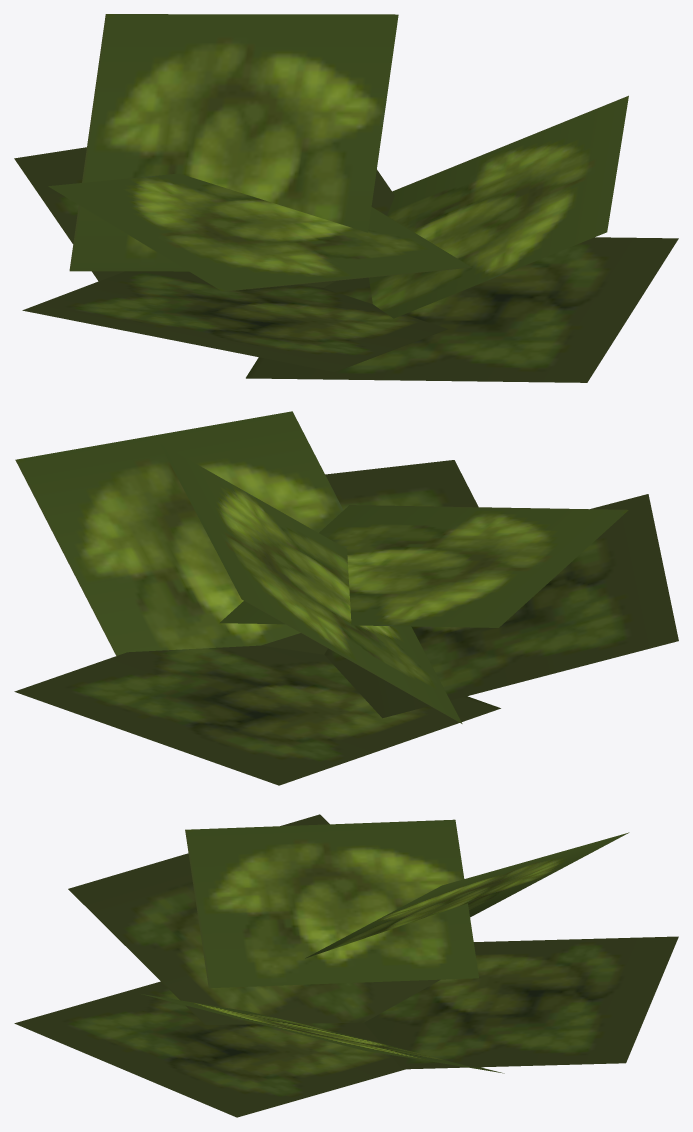
Rendered from dec_Short_Bush_06_34599.glb.
3 views of the same model, one above another, from view 1: azimuth 30°, elevation 25°; view 2: azimuth 150°, elevation 25°; view 3: azimuth 270°, elevation 25° (orthographic). The views are drawn at different scales.
Visible parts, largest first — view 1: Short_Bush_06_mesh; view 2: Short_Bush_06_mesh; view 3: Short_Bush_06_mesh.
Part boxes in pixels (bbox=[...]): Short_Bush_06_mesh: bbox=[14, 14, 678, 382]; Short_Bush_06_mesh: bbox=[14, 411, 678, 785]; Short_Bush_06_mesh: bbox=[14, 814, 678, 1117].
Size of the model in its own units: 0.9305 by 0.317 by 0.9528.
Materials: 1 (1 with a texture image).
